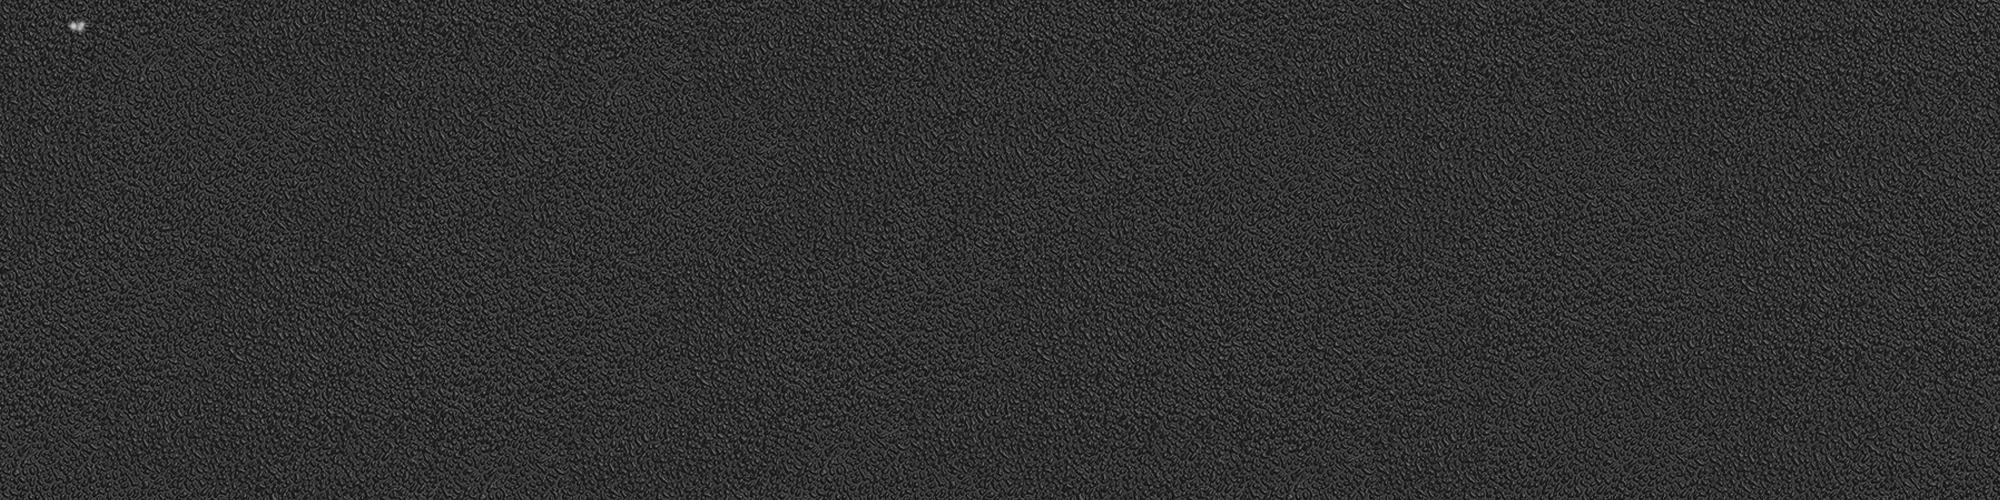Particles: (64, 19, 78, 31), (77, 20, 84, 32)
